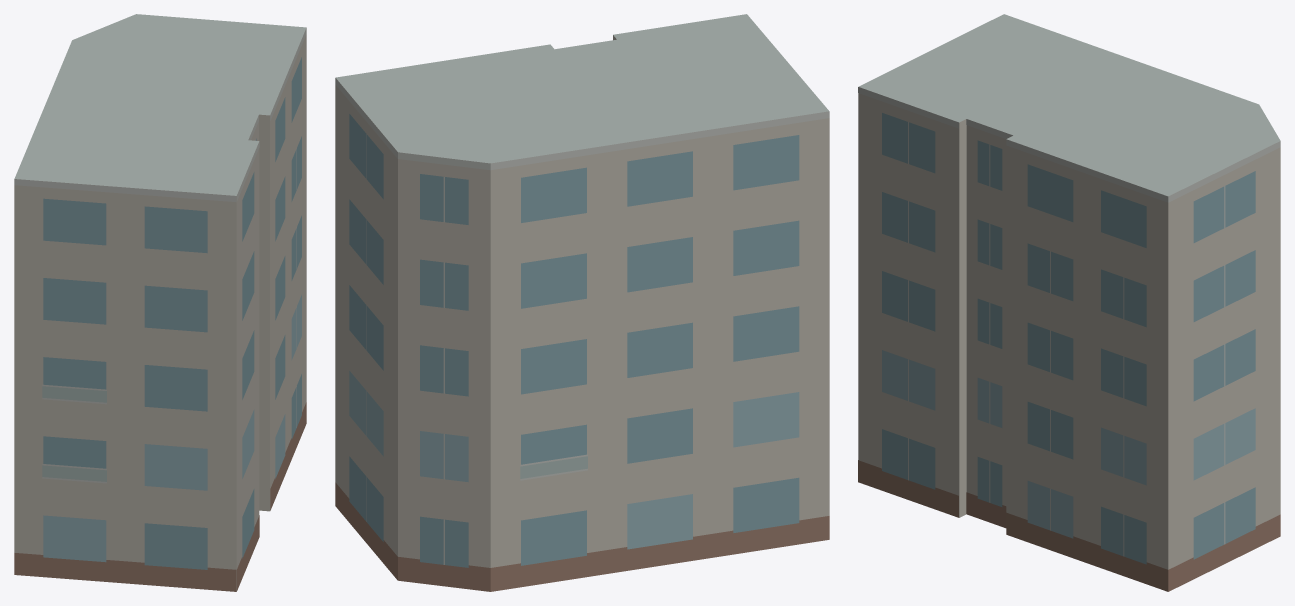
The model's file is survey-upis-32678585.glb.
3 renders of one model, left to right at view 1: azimuth 30°, elevation 25°; view 2: azimuth 150°, elevation 25°; view 3: azimuth 270°, elevation 25°, orthographic. The views are drawn at different scales.
Visible parts, largest first — view 1: survey-upis-32678585.tmp; view 2: survey-upis-32678585.tmp; view 3: survey-upis-32678585.tmp.
Part boxes in pixels (x1=…): survey-upis-32678585.tmp: x1=14, y1=14, x2=306, y2=591; survey-upis-32678585.tmp: x1=335, y1=14, x2=829, y2=591; survey-upis-32678585.tmp: x1=858, y1=14, x2=1280, y2=591.
Bounding box in the file's own units: 15.25 × 15.4 × 14.92.
